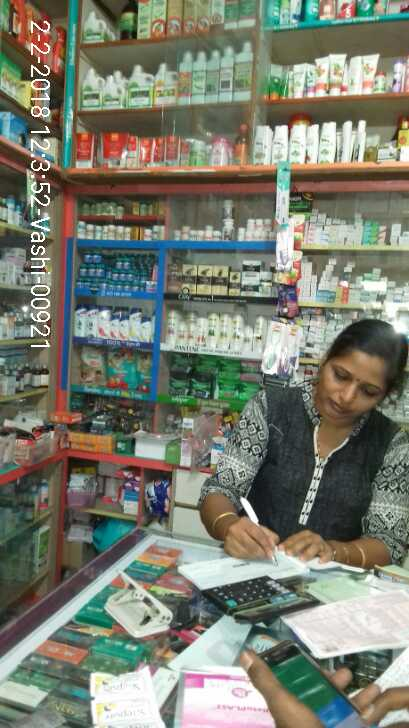beauty: (165, 308, 267, 352), (74, 303, 154, 342), (181, 263, 197, 293), (213, 264, 228, 294), (197, 264, 211, 295), (241, 259, 262, 279), (241, 279, 259, 295), (229, 271, 239, 294)
pharmacy: (107, 346, 137, 388), (79, 345, 107, 388), (166, 366, 191, 395), (189, 371, 214, 399), (215, 377, 240, 403), (79, 264, 106, 277), (84, 249, 101, 264), (115, 257, 131, 271)
